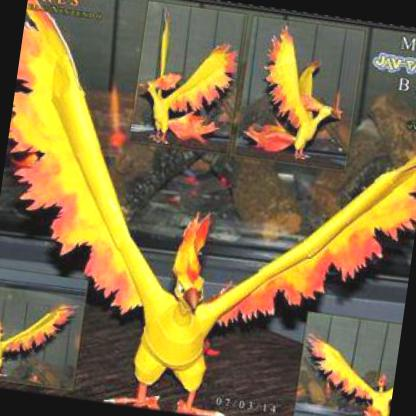Lavados: (0, 4, 415, 415)
